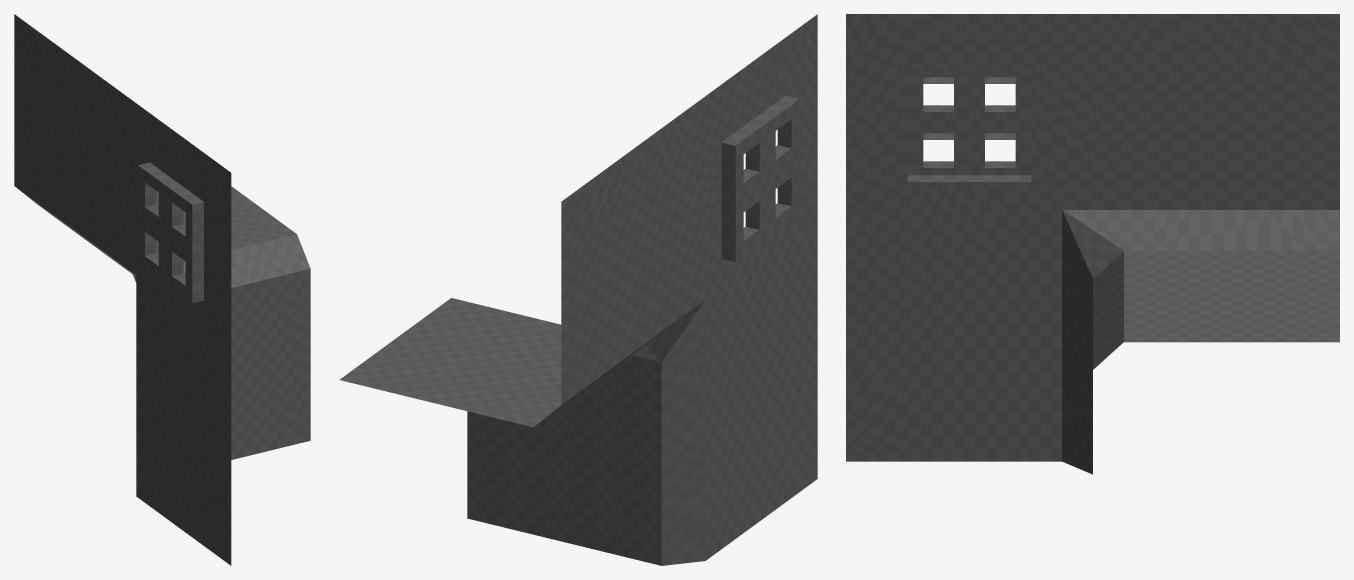
The picture shows the model from 3 angles, left to right: view 1: azimuth 30°, elevation 25°; view 2: azimuth 150°, elevation 25°; view 3: azimuth 270°, elevation 25°; orthographic projection. The views are drawn at different scales.
Parts seen in each view (by area): view 1: 1; view 2: 1; view 3: 1.
Part boxes in pixels (box(x1,y1,x2,y2)): 1: box(14, 14, 310, 565); 1: box(339, 14, 817, 565); 1: box(846, 14, 1339, 474).
Size of the model in its own units: 2.12 by 4 by 4.
2 materials, 2 textured.
